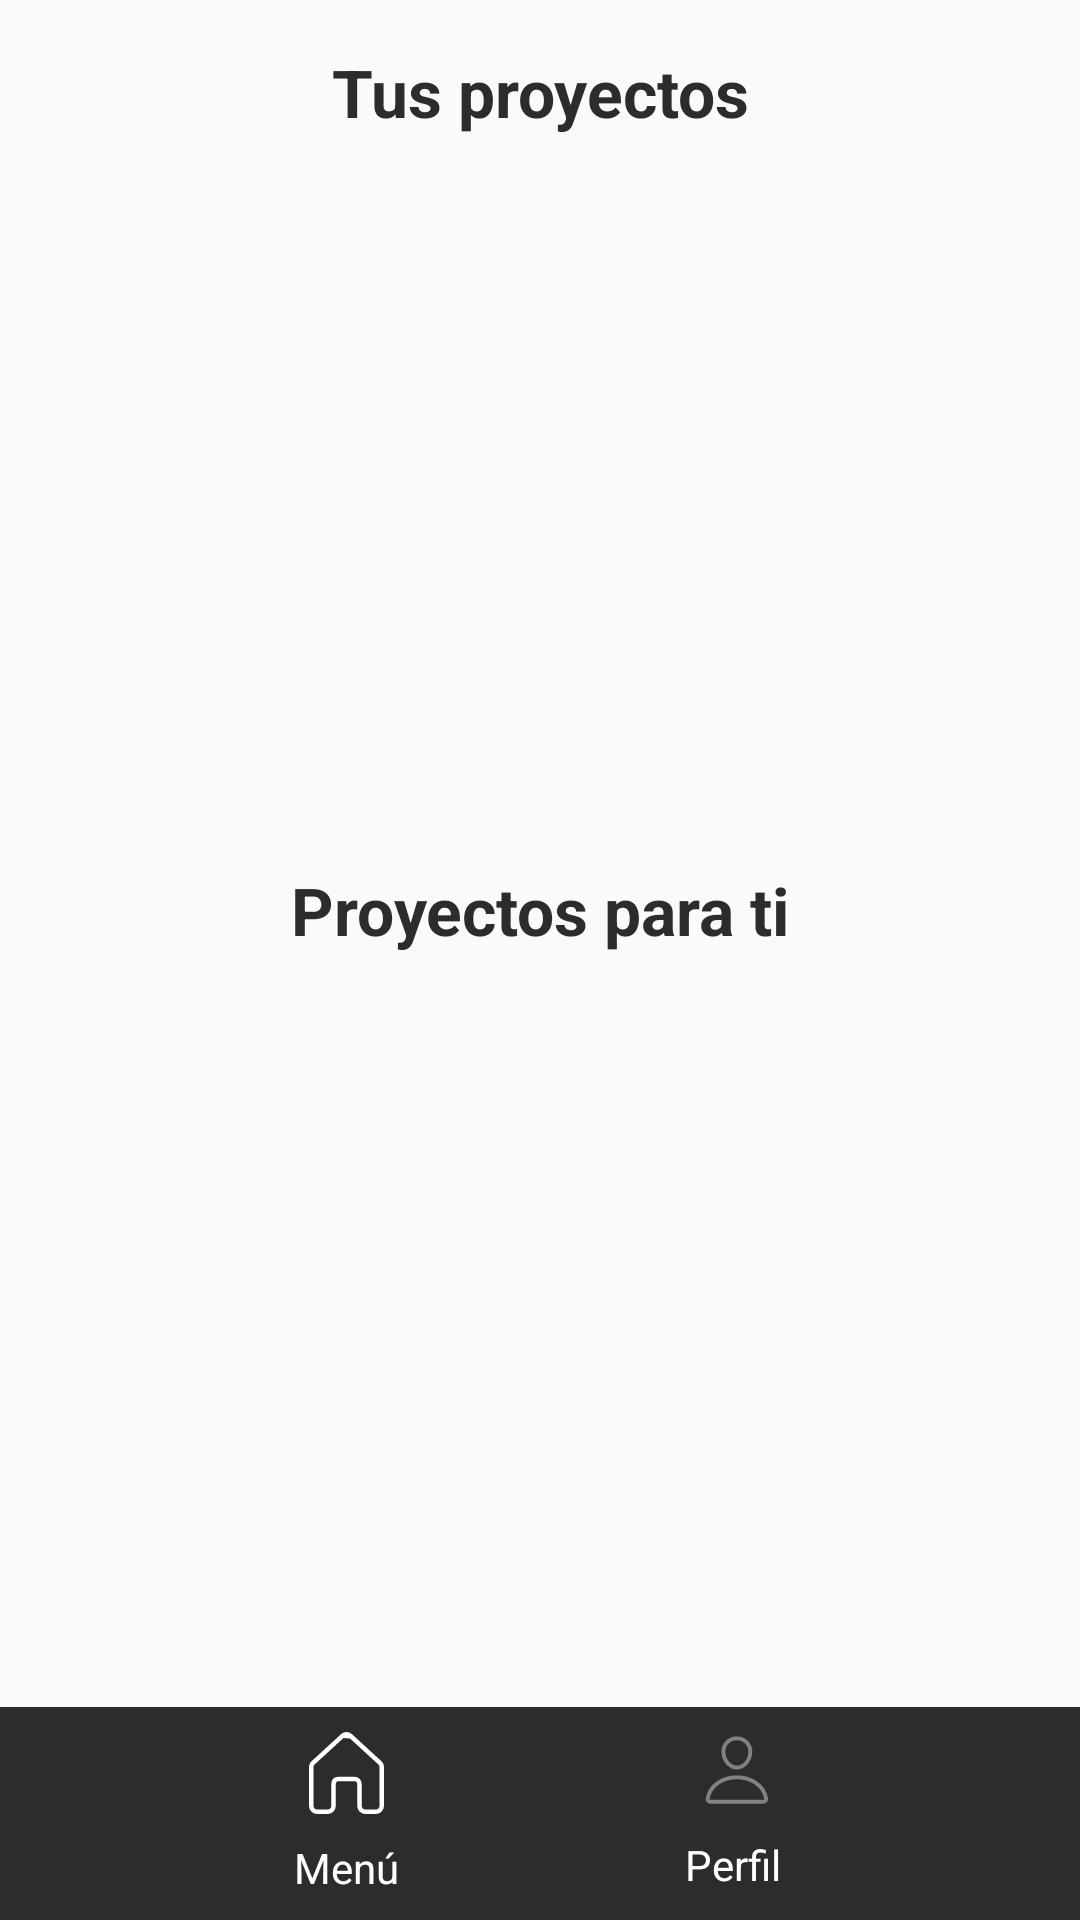

Screen size 1080×1920. Icon name, then its center in pixels as [x,y]:
home: [346,1773]
person: [737,1770]
